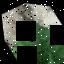Morning glory: (0, 4, 64, 64)
